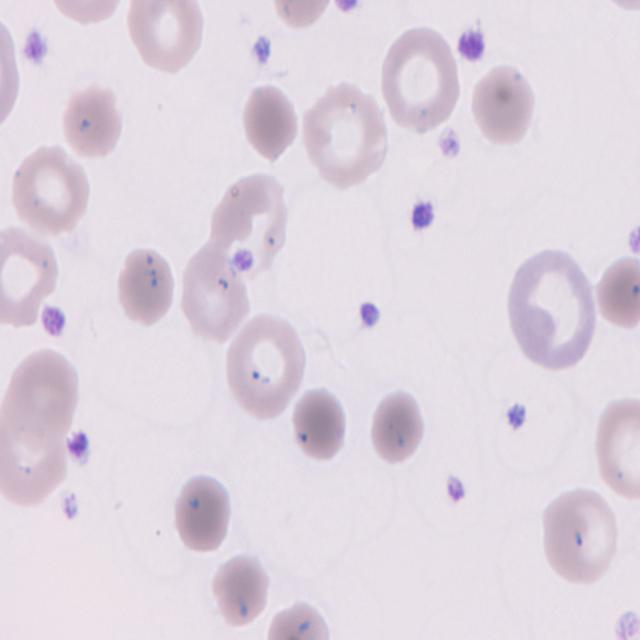RBC: (503, 245, 602, 383), (376, 22, 467, 140), (220, 309, 308, 423), (301, 81, 392, 191), (538, 482, 625, 592), (1, 344, 82, 457), (9, 144, 92, 236), (0, 220, 65, 332), (178, 247, 252, 342), (125, 0, 205, 77), (55, 84, 124, 162), (591, 400, 640, 503), (0, 7, 28, 148)
Spherocyte: (469, 59, 540, 149), (114, 244, 179, 330), (171, 470, 234, 556), (242, 82, 306, 166), (290, 386, 348, 465), (370, 388, 424, 464)
